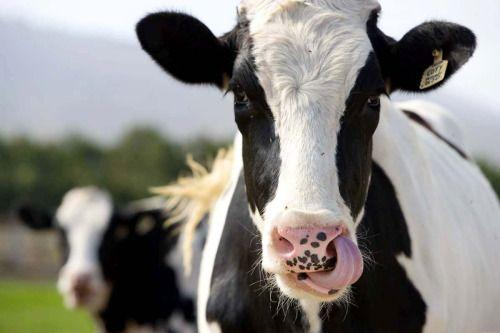cow: (134, 5, 461, 330)
